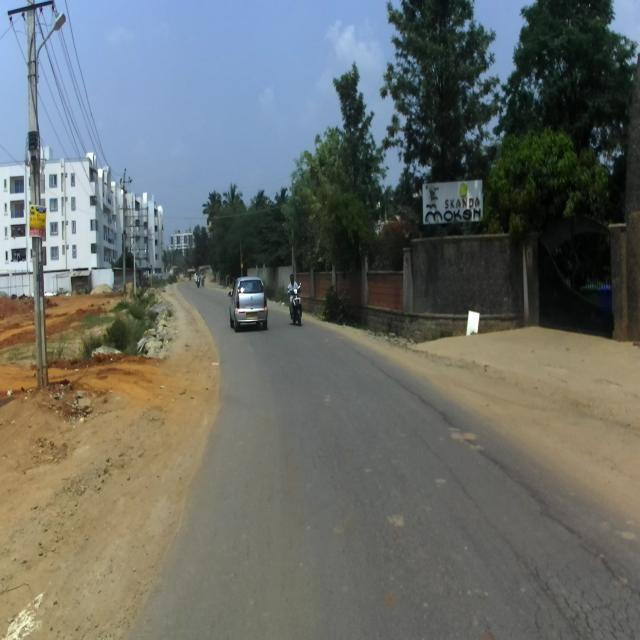car ahead at: (223, 277, 274, 335)
electric pole ahead at: (5, 0, 74, 409)
